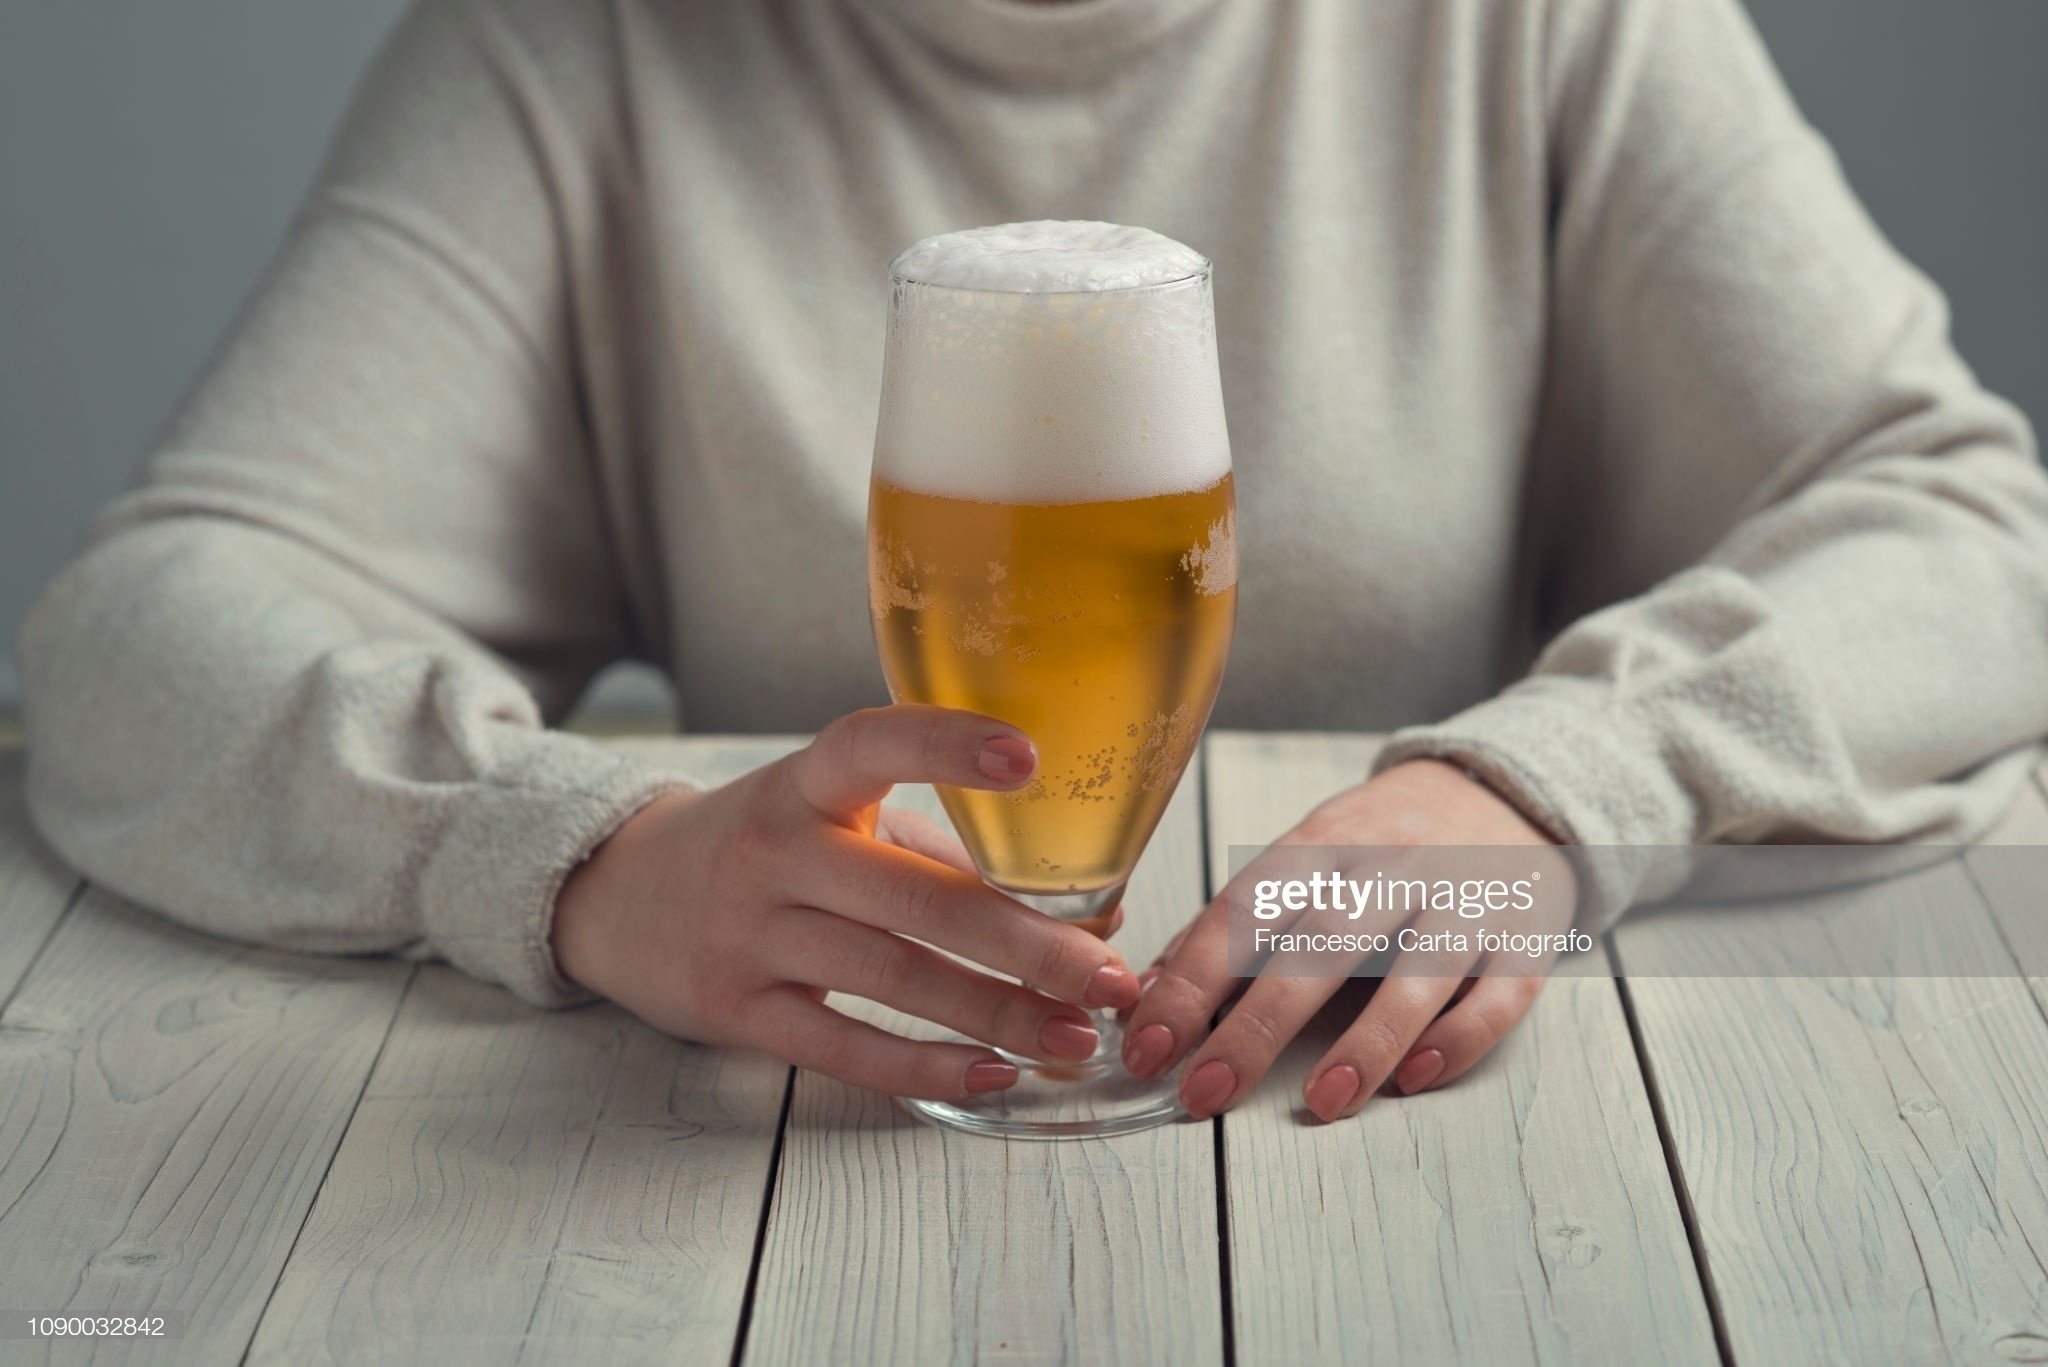whiskey: (884, 256, 1249, 1060)
